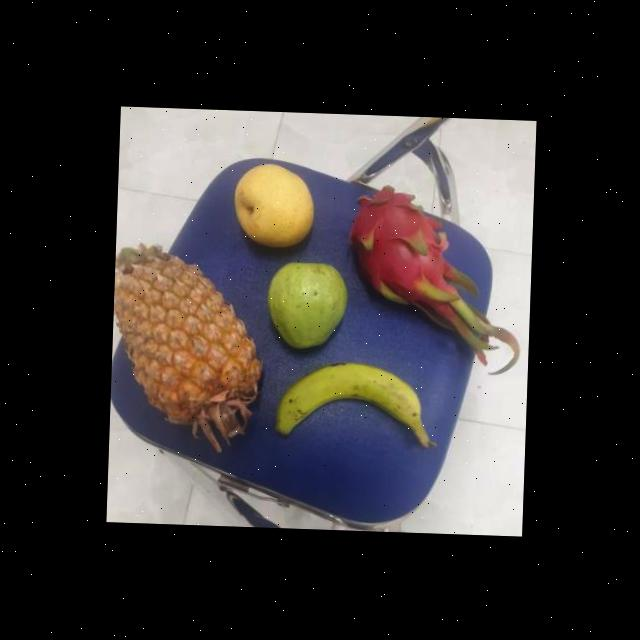banana: (274, 360, 438, 440)
guava: (264, 260, 352, 347)
pear: (229, 162, 318, 249)
pineapple: (113, 261, 270, 442)
pitaya: (346, 186, 452, 304)
